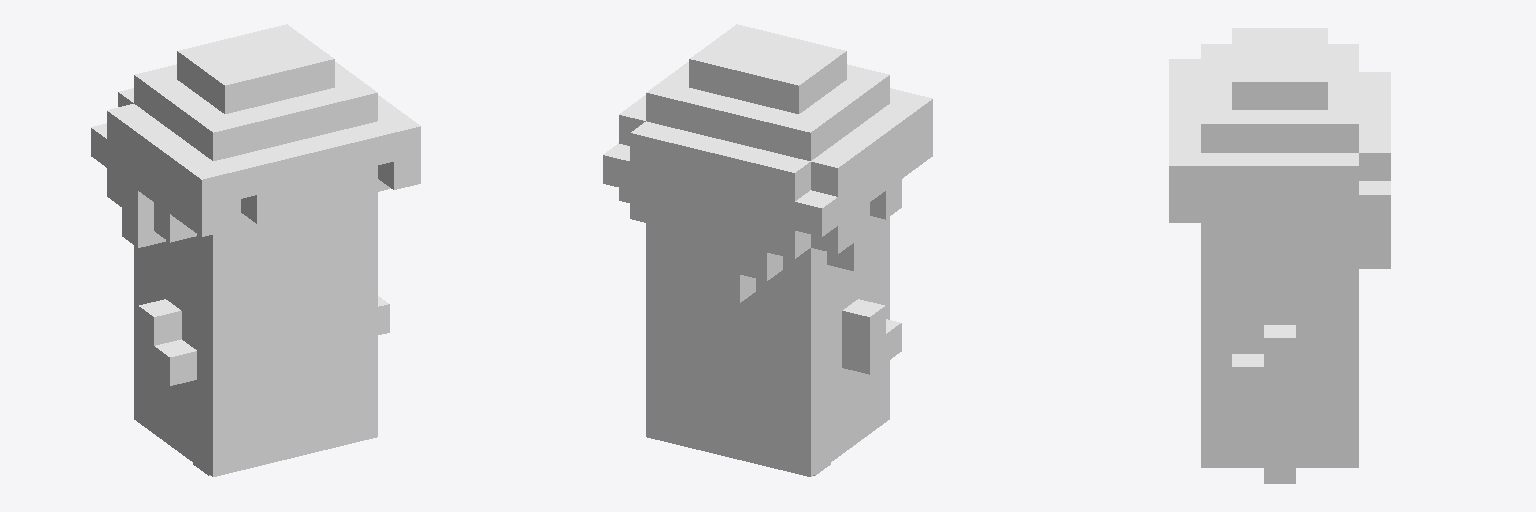
File: ama001.obj
The picture shows the model from 3 angles: view 1: azimuth 30°, elevation 25°; view 2: azimuth 150°, elevation 25°; view 3: azimuth 270°, elevation 25°; orthographic projection.
Visible parts, largest first — view 1: ama001; view 2: ama001; view 3: ama001.
Boxes of the visible parts, x1,y1,x2,y2 form: ama001: [91, 24, 420, 476]; ama001: [603, 24, 932, 476]; ama001: [1169, 28, 1390, 483].
Bounding box in the file's own units: 8 × 14 × 7.